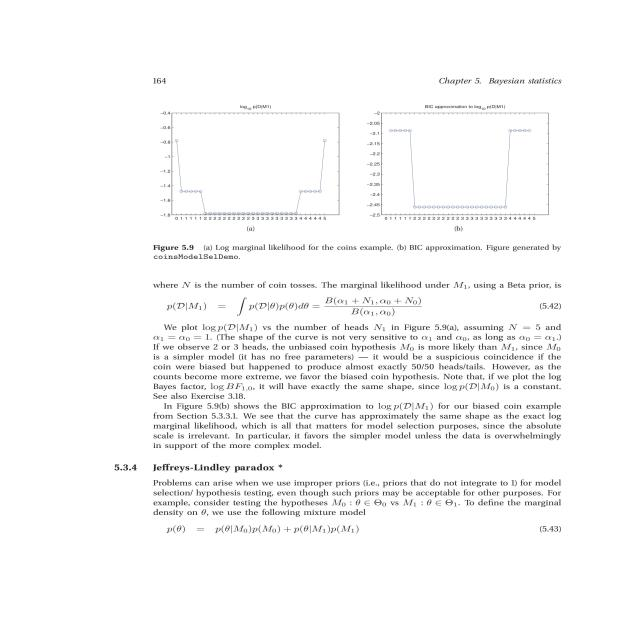diagram: (109, 101, 590, 266)
